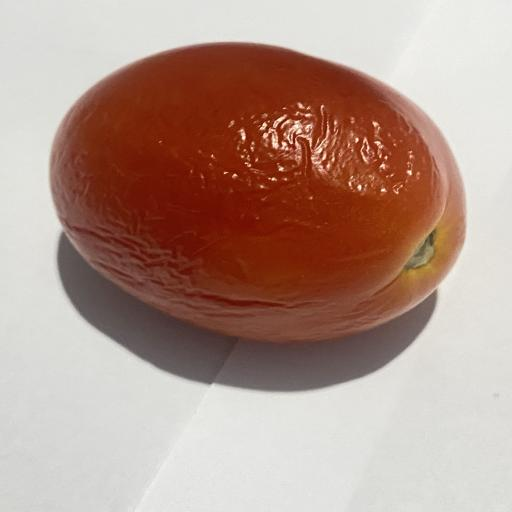spoiled: (50, 43, 465, 342)
